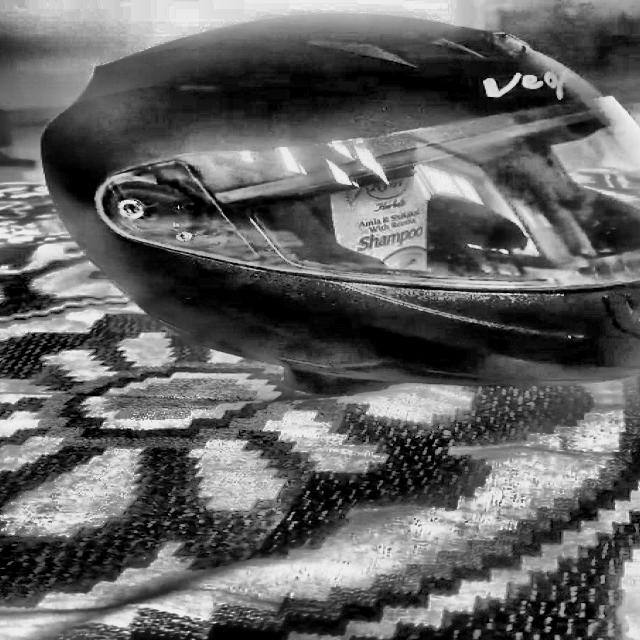Helmet: (27, 18, 640, 376)
